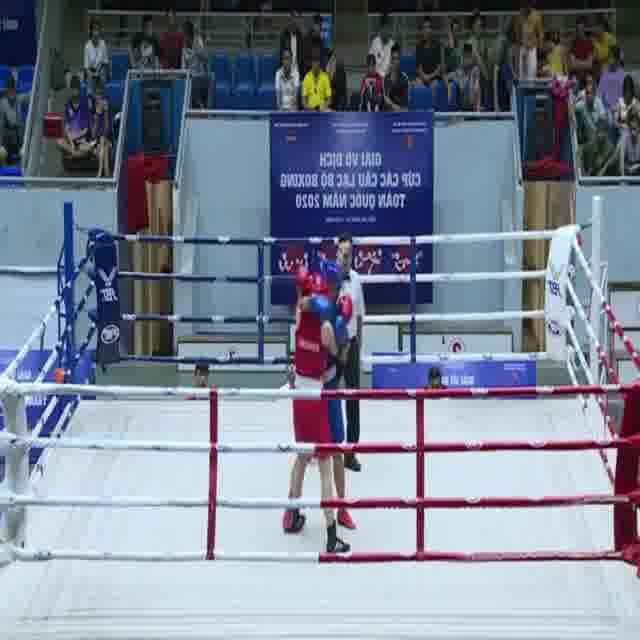blue-player: (281, 259, 358, 534)
red-player: (282, 263, 355, 558)
referee: (321, 232, 370, 470)
